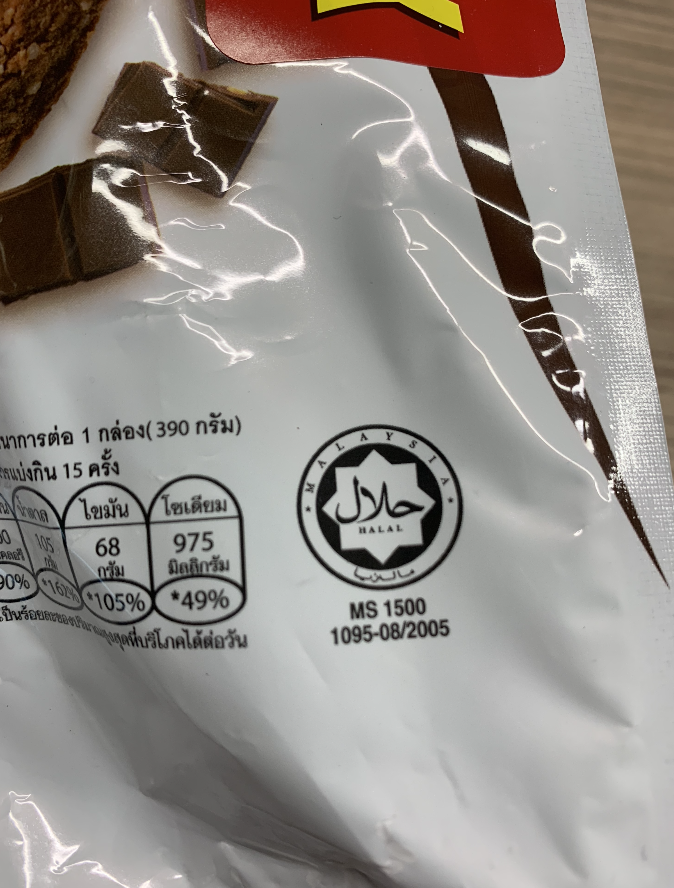halal: (321, 448, 436, 559)
